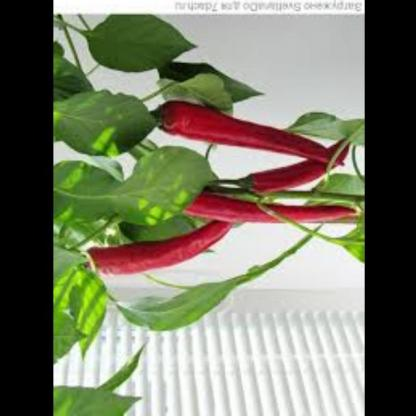hot pepper: (148, 100, 342, 172), (86, 217, 236, 285), (215, 137, 356, 204), (180, 186, 358, 232)
